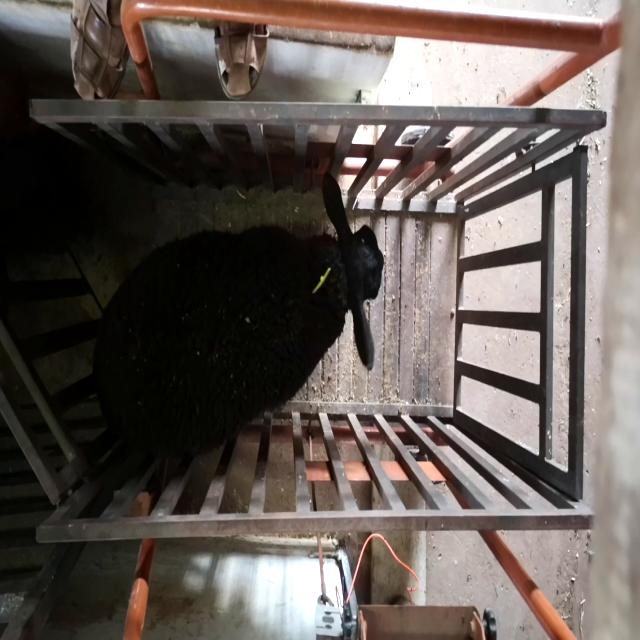sheep: (93, 172, 384, 458)
